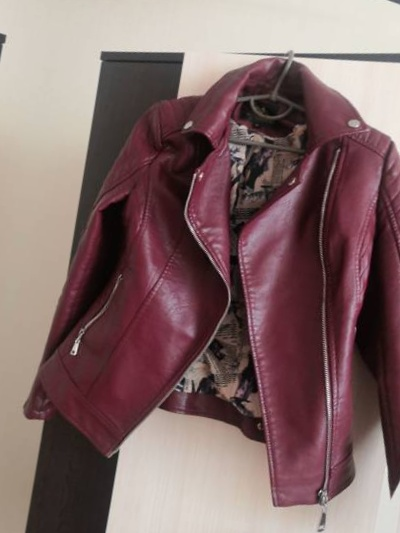Blazer: (5, 24, 400, 523), (0, 0, 35, 452), (0, 512, 373, 533), (392, 90, 400, 533)
